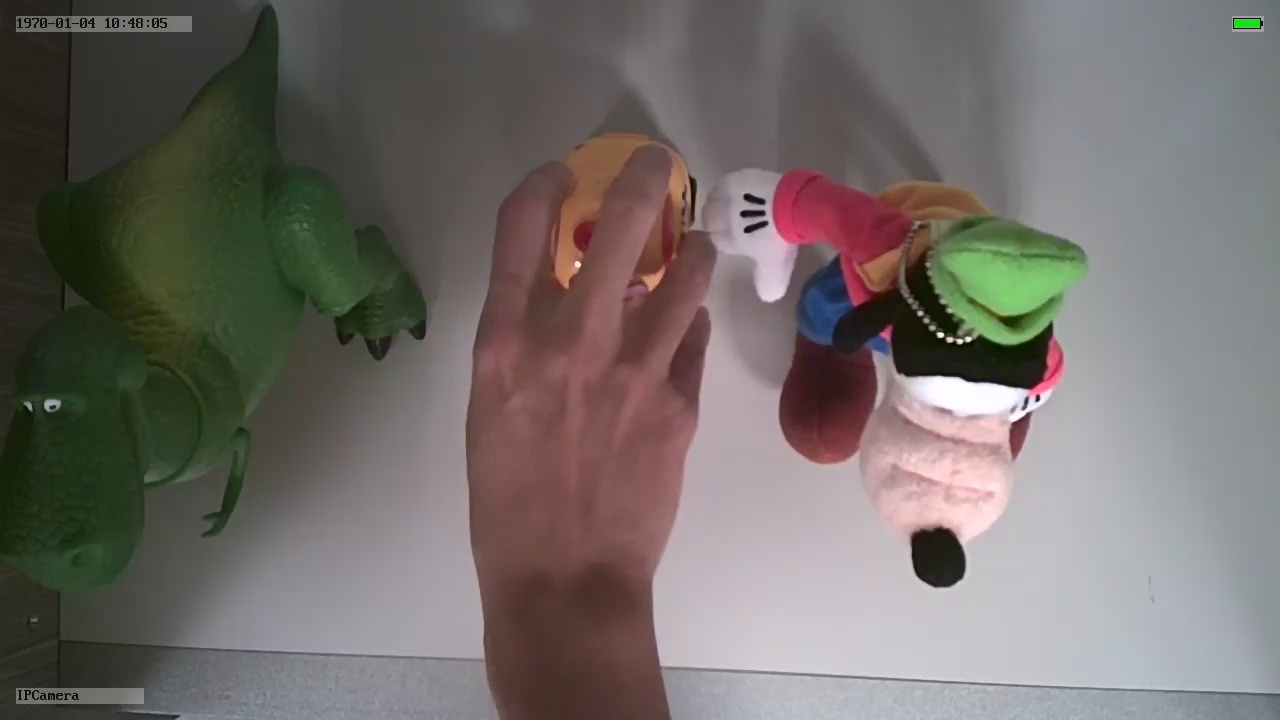goofy: (701, 165, 1090, 597)
rex: (1, 105, 426, 596)
